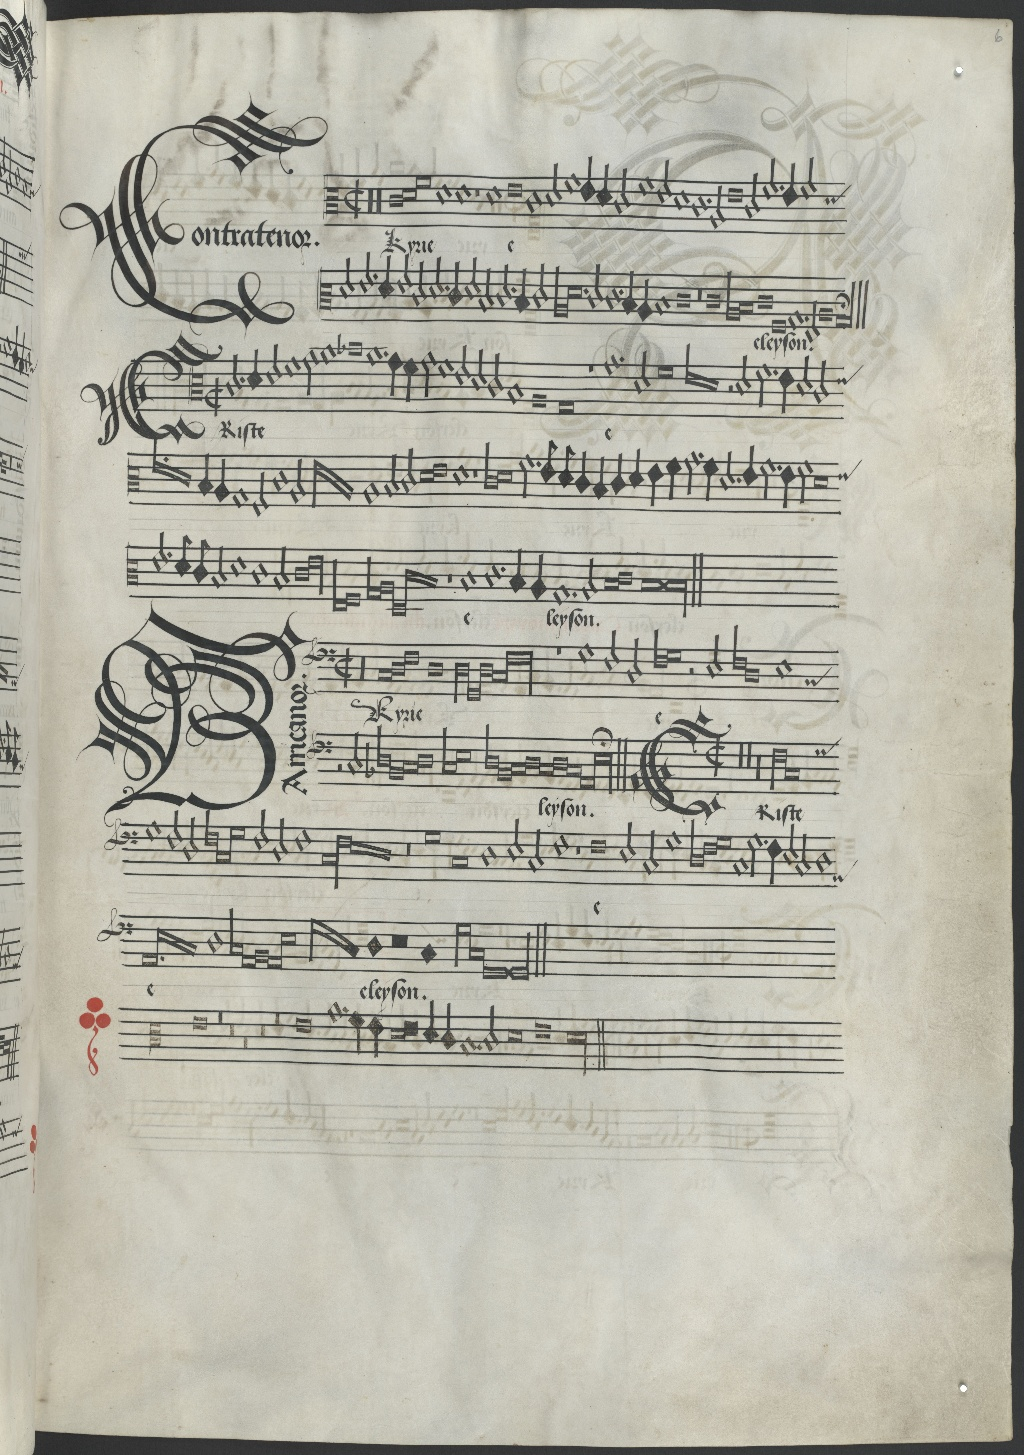Imincut: (338, 170, 369, 227)
breve_5: (502, 173, 526, 205), (723, 178, 745, 208)
c clef_7: (318, 172, 342, 232)
custos_8: (819, 175, 853, 221)
l1breve_7: (387, 188, 406, 212)
l2breve_4: (413, 170, 432, 195)
l2breve_6: (399, 180, 418, 206)
longa rest: (372, 167, 385, 234), (363, 167, 376, 234)
minim_4: (800, 148, 819, 207), (760, 150, 777, 207)
minim_5: (654, 153, 673, 211)
minim_6: (544, 156, 564, 216)
minim_7: (612, 161, 632, 223)
minim_8: (743, 166, 762, 227)
minim_9: (709, 177, 728, 237)
point: (700, 189, 715, 211), (771, 176, 785, 197)
semibreve rest: (470, 161, 482, 237)
semibreve_4: (635, 170, 657, 203), (561, 164, 581, 199)
semibreve_6: (451, 174, 473, 215), (433, 174, 454, 214), (482, 176, 503, 215), (670, 182, 692, 219)
semibreve_7: (522, 182, 544, 222), (688, 187, 708, 225)
semiminim_5: (578, 148, 596, 211), (784, 156, 801, 214)
semiminim_6: (596, 157, 614, 215)
